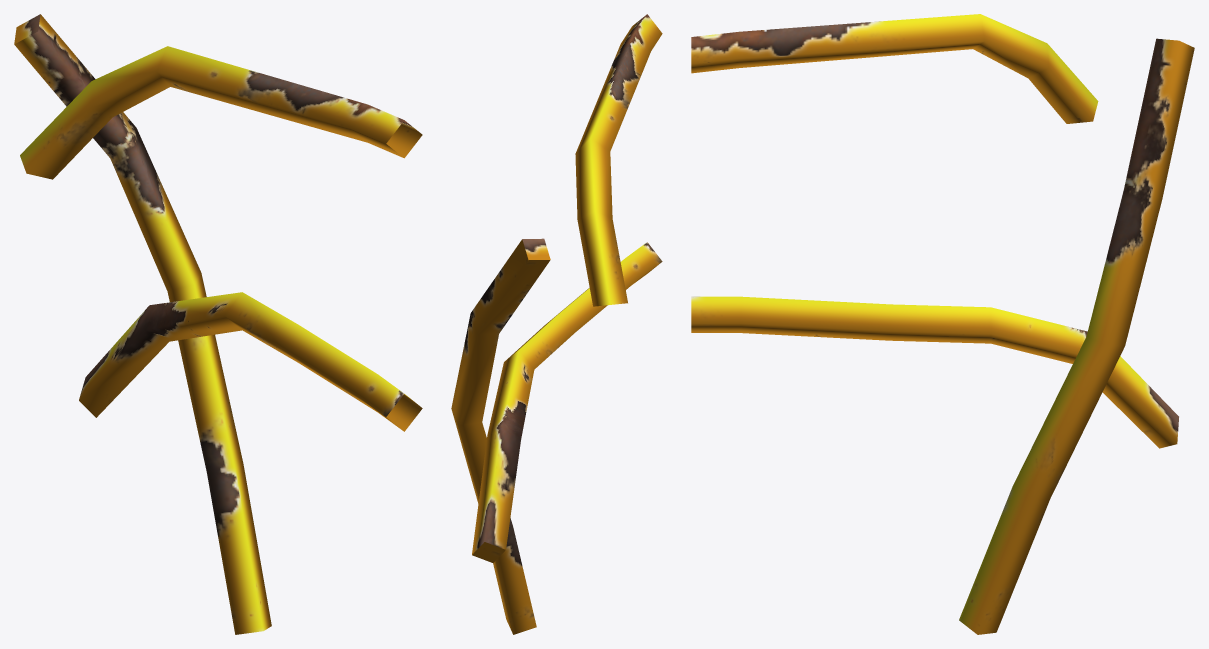
Rendered from safetyRail_1m_C.fbx.
3 views of the same model, side by side, from view 1: azimuth 30°, elevation 25°; view 2: azimuth 150°, elevation 25°; view 3: azimuth 270°, elevation 25° (orthographic). The views are drawn at different scales.
Visible parts, largest first — view 1: safetyRail_1m_C; view 2: safetyRail_1m_C; view 3: safetyRail_1m_C.
Part boxes in pixels (x1=…): safetyRail_1m_C: x1=14, y1=14, x2=422, y2=634; safetyRail_1m_C: x1=451, y1=14, x2=662, y2=634; safetyRail_1m_C: x1=691, y1=14, x2=1194, y2=634.
Bounding box in the file's own units: 37.45 × 115 × 87.88.
